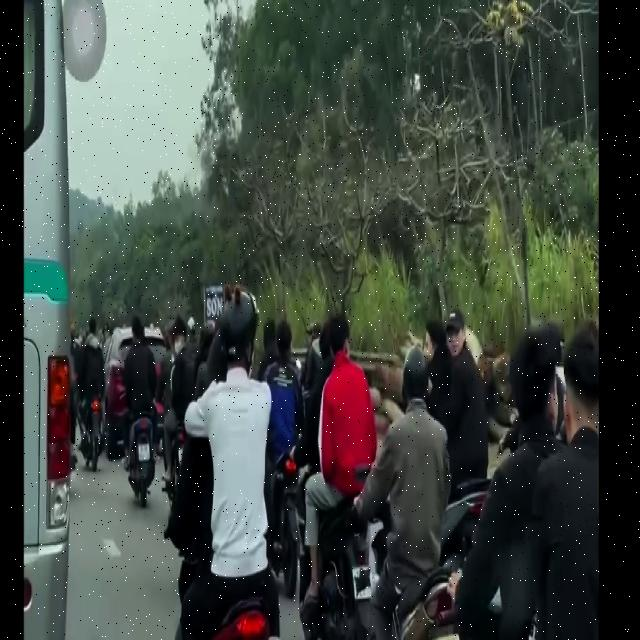helmet: (217, 284, 258, 398), (402, 340, 435, 427)
